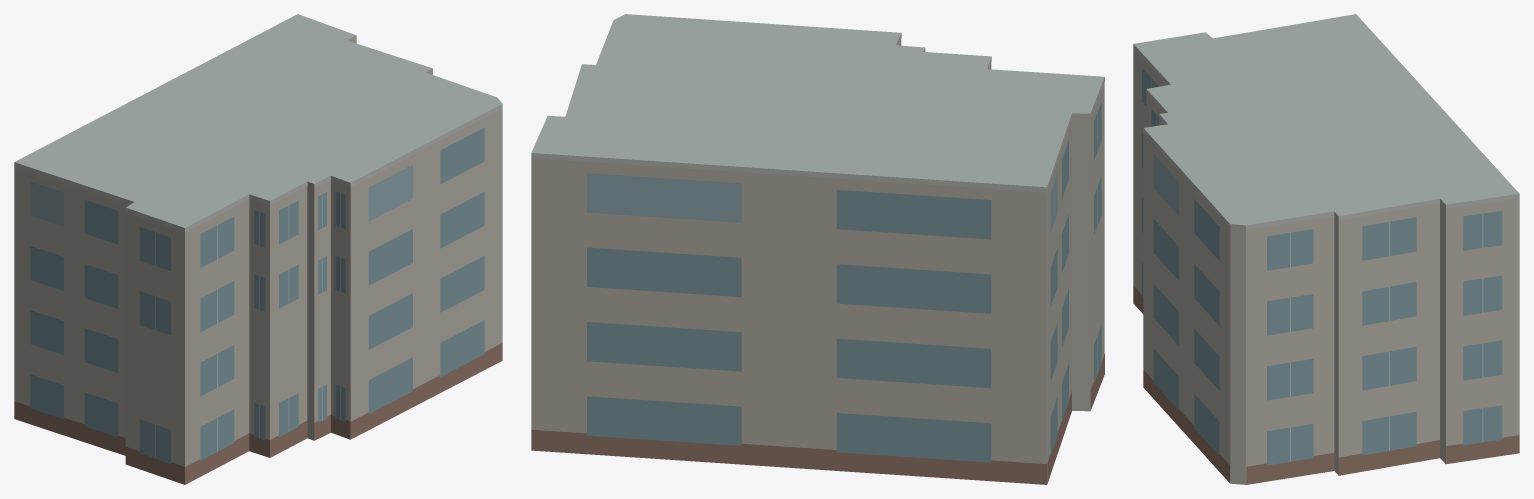
The model's file is survey-upis-32502310.glb.
3 views of the same model, side by side, from view 1: azimuth 30°, elevation 25°; view 2: azimuth 150°, elevation 25°; view 3: azimuth 270°, elevation 25° (orthographic). The views are drawn at different scales.
Visible parts, largest first — view 1: survey-upis-32502310.tmp; view 2: survey-upis-32502310.tmp; view 3: survey-upis-32502310.tmp.
Part boxes in pixels (x1,y1,x2,y2): survey-upis-32502310.tmp: [14, 14, 502, 484]; survey-upis-32502310.tmp: [531, 14, 1104, 484]; survey-upis-32502310.tmp: [1133, 14, 1519, 484].
Bounding box in the file's own units: 23.76 × 13.6 × 18.36.
